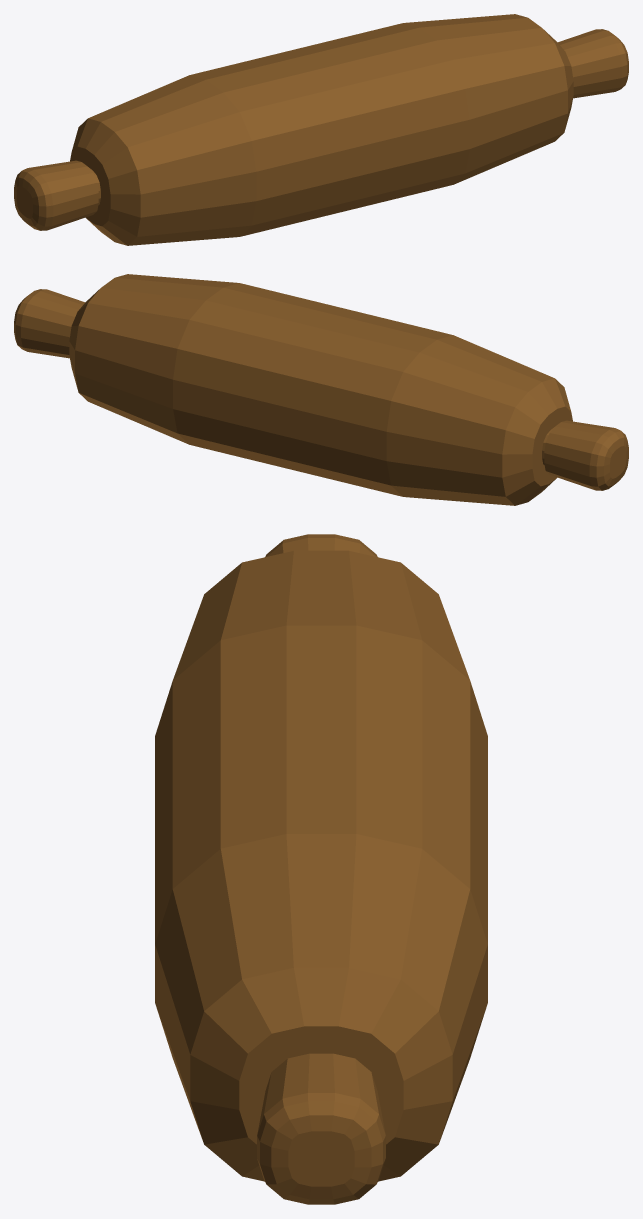
Rendered from Rolling Pin.fbx.
The picture shows the model from 3 angles, top to bottom: view 1: azimuth 30°, elevation 25°; view 2: azimuth 150°, elevation 25°; view 3: azimuth 270°, elevation 25°; orthographic projection. The views are drawn at different scales.
Visible parts, largest first — view 1: Rolling Pin; view 2: Rolling Pin; view 3: Rolling Pin.
Boxes of the visible parts, x1=… form: Rolling Pin: x1=14, y1=14, x2=628, y2=245; Rolling Pin: x1=14, y1=274, x2=628, y2=505; Rolling Pin: x1=155, y1=534, x2=487, y2=1204.
Size of the model in its own units: 0.2658 by 0.0598 by 0.0646.
